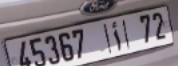2: (152, 11, 165, 39)
3: (45, 34, 59, 63)
4: (18, 40, 31, 66)
5: (30, 37, 45, 66)
6: (60, 31, 73, 62)
7: (71, 27, 86, 59), (139, 14, 151, 45)
a: (111, 21, 121, 53)
